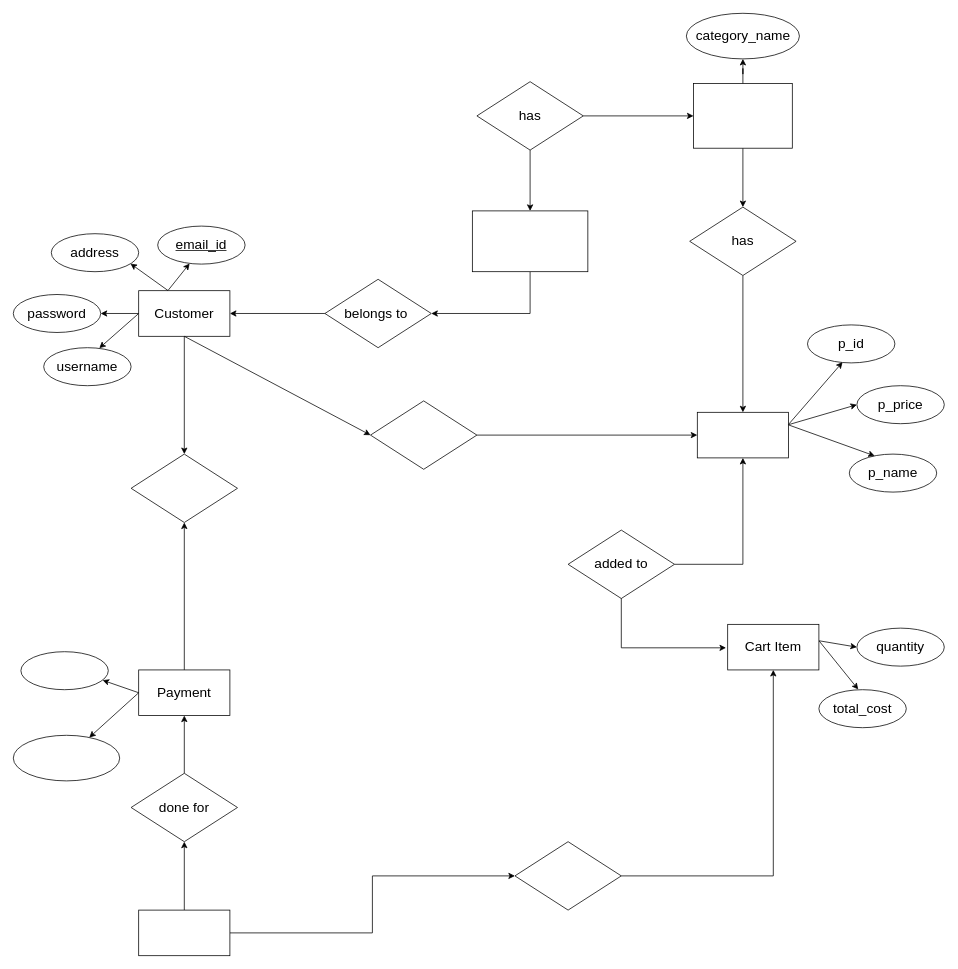
This 958x969 diagram has some shape labels left out. Here are the shapes that lost their labels. From the top down, the centre of each, then its label:
(742,115): Category
(530,241): Furniture Management System
(423,434): buys
(742,435): Products
(184,487): does
(64,670): amount
(66,758): payment_type
(567,875): made of
(184,932): Cart
